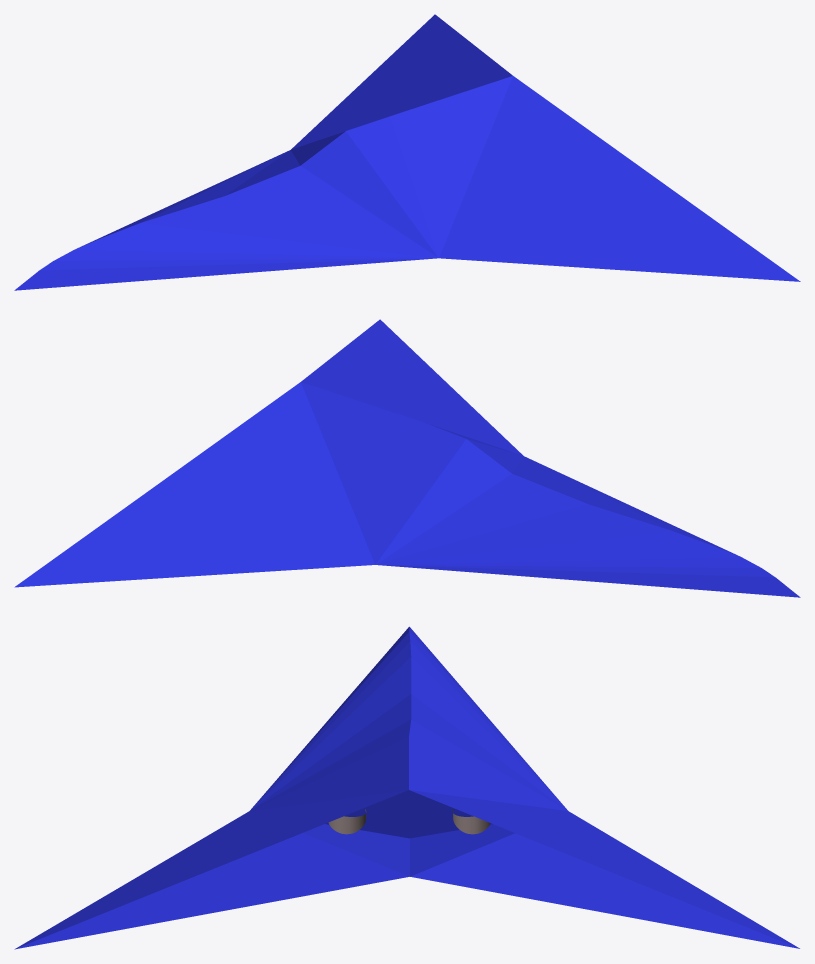
The model's file is FlyingRacerUpdated.fbx.
3 views of the same model, one above another, from view 1: azimuth 30°, elevation 25°; view 2: azimuth 150°, elevation 25°; view 3: azimuth 270°, elevation 25° (orthographic). The views are drawn at different scales.
Visible parts, largest first — view 1: MainKart; view 2: MainKart; view 3: MainKart.
Boxes of the visible parts, left/top/right/bottom form: MainKart: left=14, top=14, right=800, bottom=290; MainKart: left=14, top=319, right=800, bottom=597; MainKart: left=14, top=626, right=799, bottom=949.
Size of the model in its own units: 477 by 89.48 by 500.
